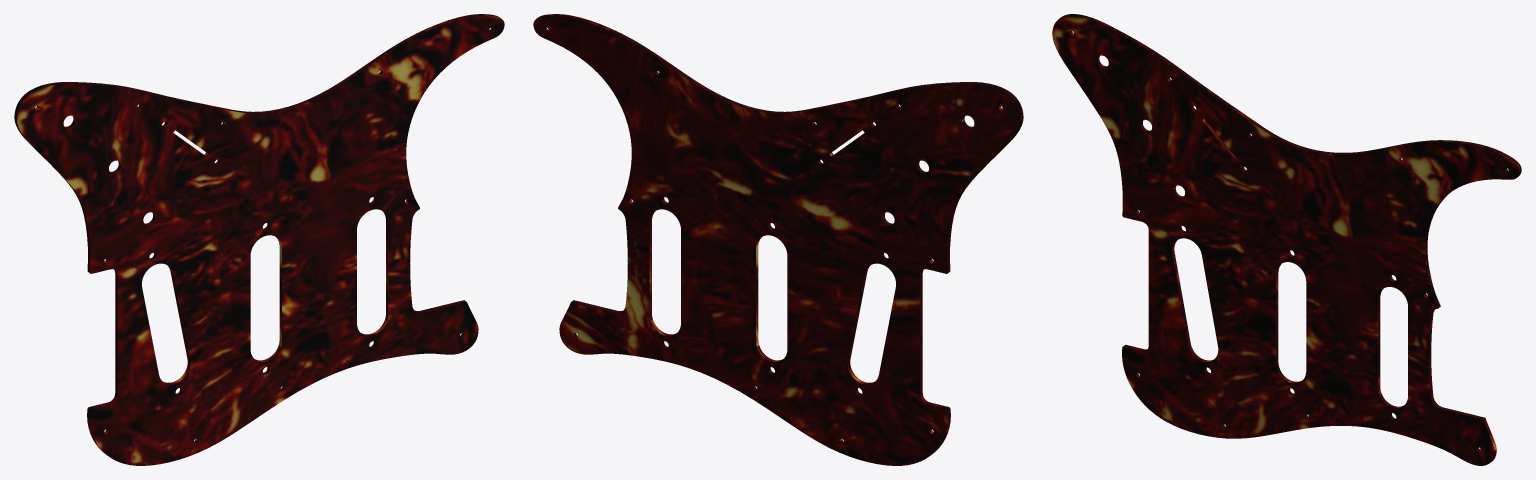
File: tortoise.dae
3 views of the same model, side by side, from view 1: azimuth 30°, elevation 25°; view 2: azimuth 150°, elevation 25°; view 3: azimuth 330°, elevation 25° (orthographic). The views are drawn at different scales.
Visible parts, largest first — view 1: Pickguard; view 2: Pickguard; view 3: Pickguard.
Boxes of the visible parts, x1,y1,x2,y2 form: Pickguard: [14, 14, 504, 465]; Pickguard: [533, 14, 1023, 465]; Pickguard: [1052, 14, 1521, 465].
Size of the model in its own units: 280 by 2.4 by 222.
1 material, 1 textured.
